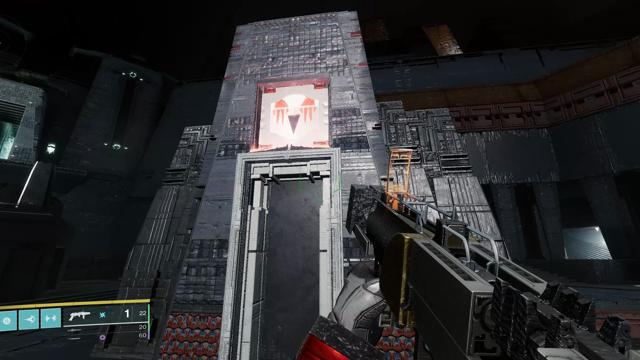give: (270, 94, 319, 139)
